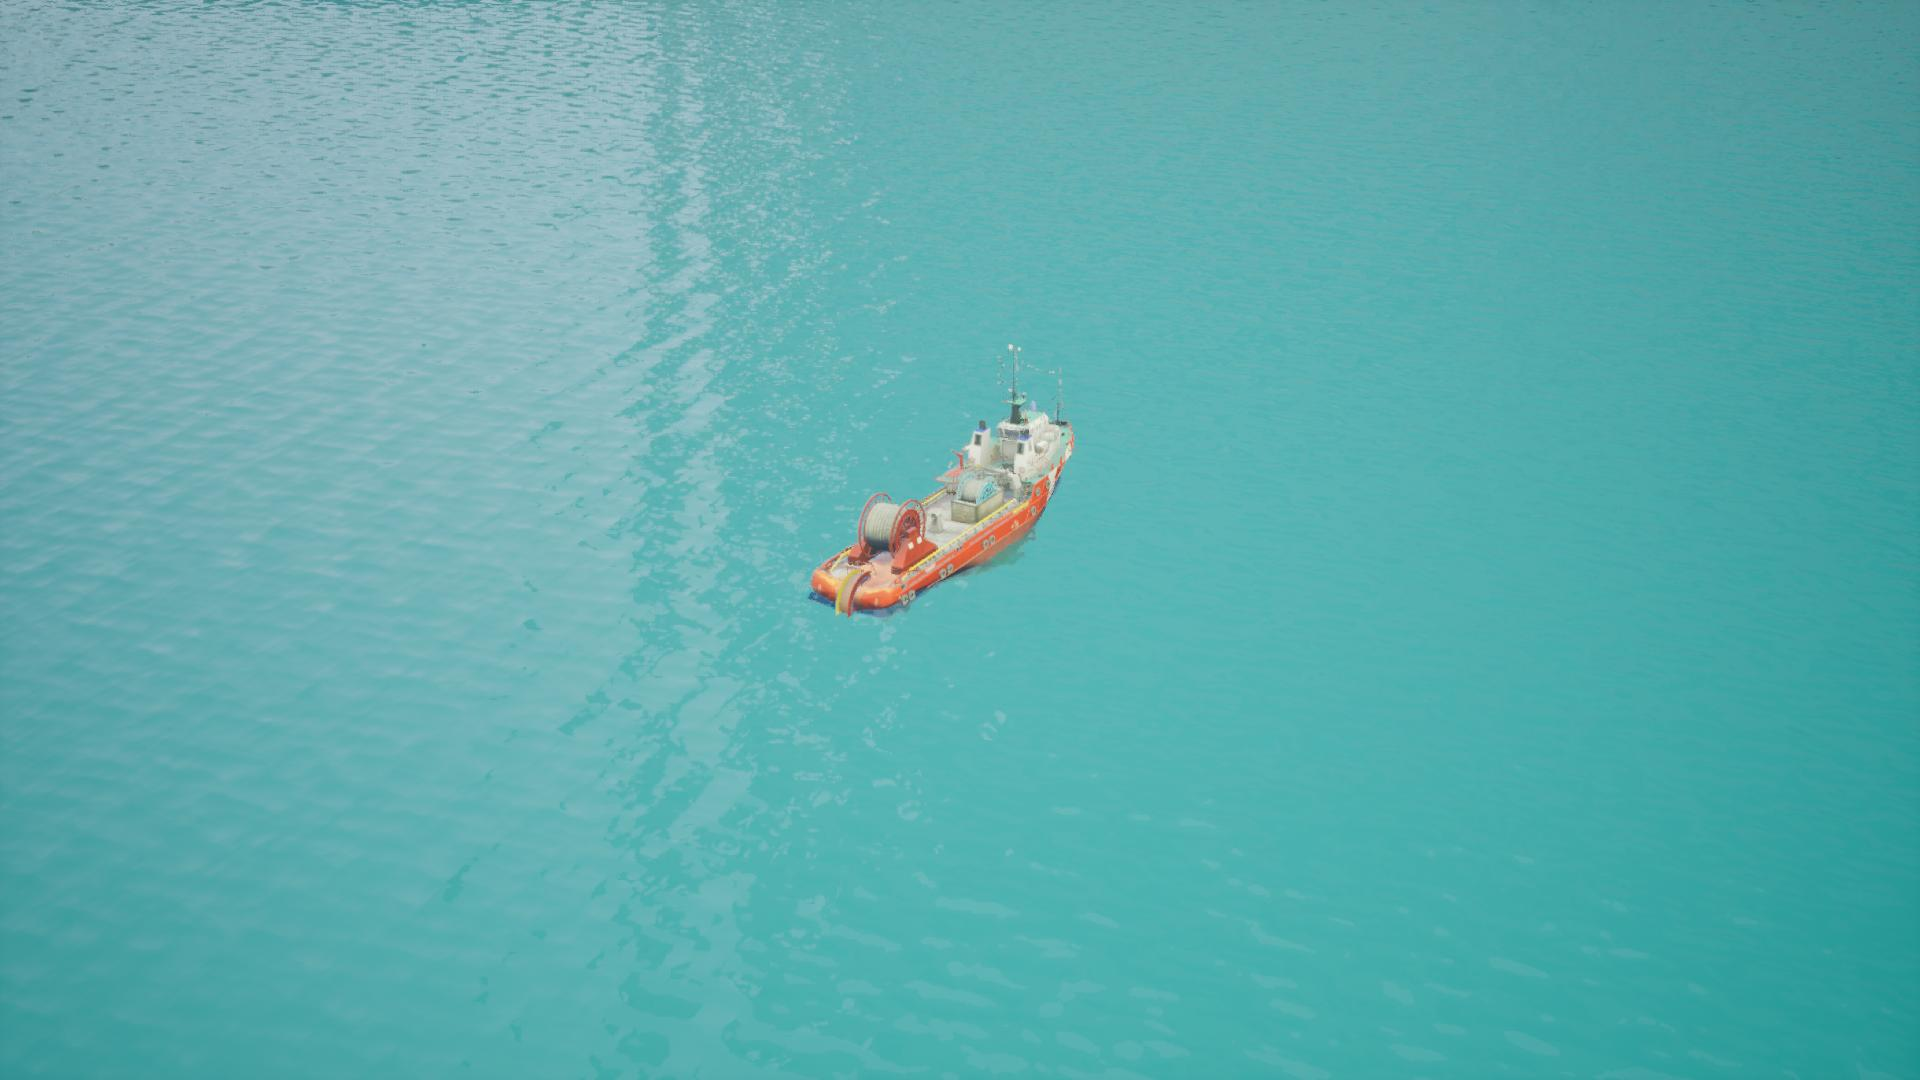Tug Boat: (886, 348, 1067, 613)
